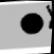correct: (17, 10, 46, 36)
